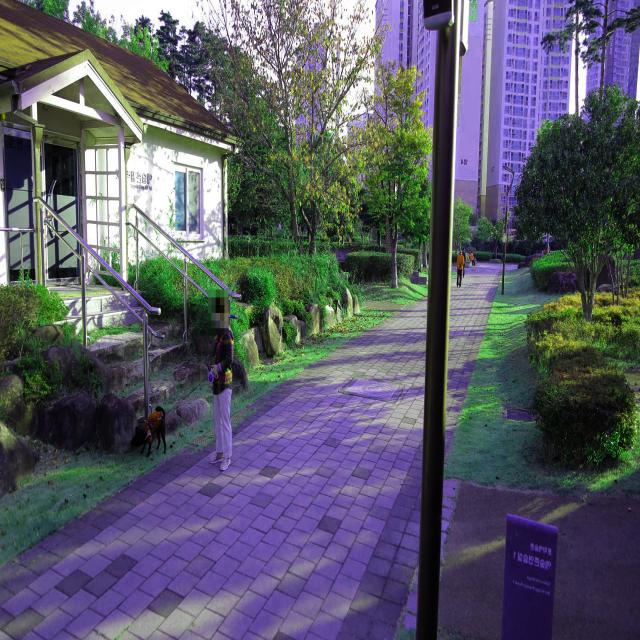Leashed_Dog: (130, 365, 226, 455)
